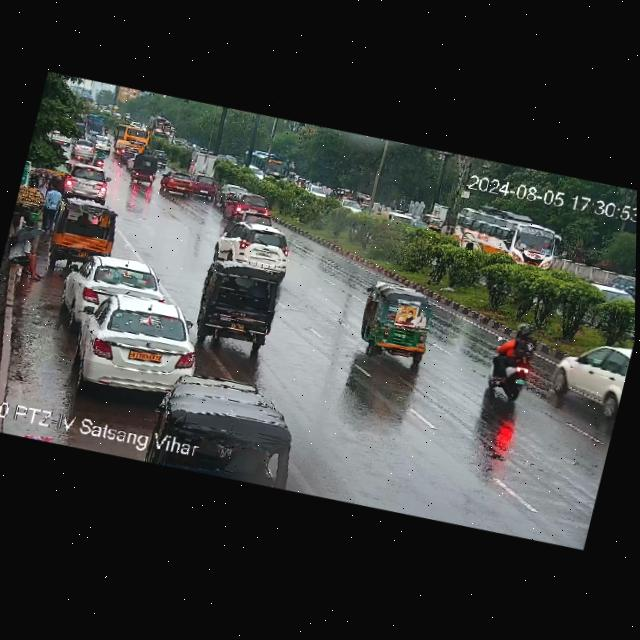bus: (442, 201, 564, 278), (235, 148, 292, 186)
car: (152, 365, 310, 494), (58, 284, 208, 412), (53, 245, 173, 340), (188, 254, 288, 356), (355, 280, 441, 364), (548, 332, 630, 420), (44, 196, 124, 276), (217, 215, 302, 278), (59, 162, 114, 204), (221, 186, 276, 225), (111, 121, 154, 154), (124, 152, 162, 187), (158, 170, 198, 198), (215, 181, 248, 206), (190, 173, 220, 198), (91, 134, 115, 153)
motorcycle: (481, 323, 545, 405)
person: (5, 220, 49, 280), (34, 182, 65, 231)
truck: (186, 150, 218, 180), (146, 114, 174, 141)
